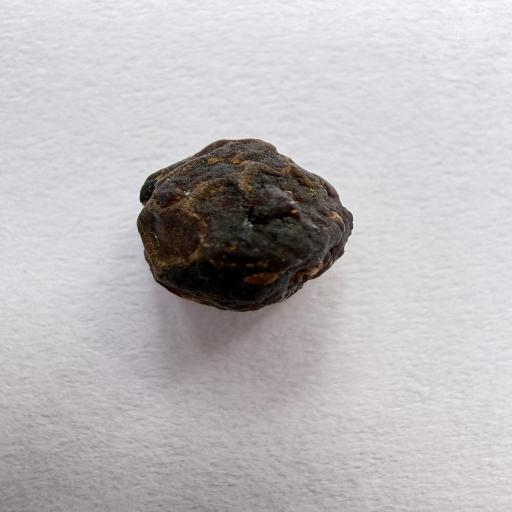Black_pepper: (76, 120, 387, 332)
